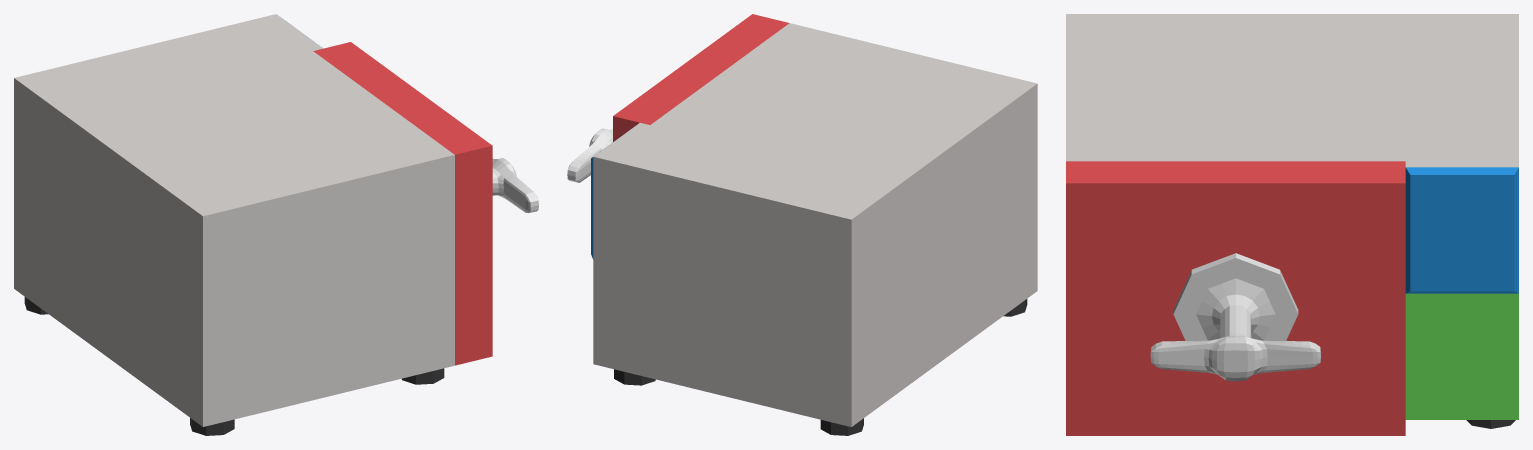
The model's file is autoclaveclosed.fbx.
3 views of the same model, side by side, from view 1: azimuth 30°, elevation 25°; view 2: azimuth 150°, elevation 25°; view 3: azimuth 270°, elevation 25° (orthographic). The views are drawn at different scales.
Visible parts, largest first — view 1: MainAutoclave, AutoClaveDoor; view 2: MainAutoclave, AutoClaveDoor; view 3: MainAutoclave, AutoClaveDoor.
Part boxes in pixels (x1,y1,x2,y2): MainAutoclave: (14,14,454,435); AutoClaveDoor: (313,42,538,365); MainAutoclave: (591,23,1037,435); AutoClaveDoor: (567,14,789,182); MainAutoclave: (1066,14,1518,428); AutoClaveDoor: (1066,161,1405,435).
Bounding box in the file's own units: 300 × 170 × 260.
